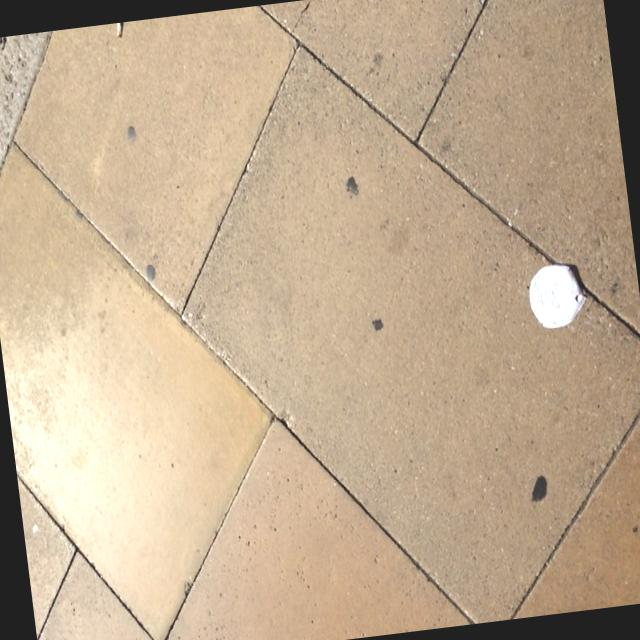Trash: (518, 258, 594, 348)
